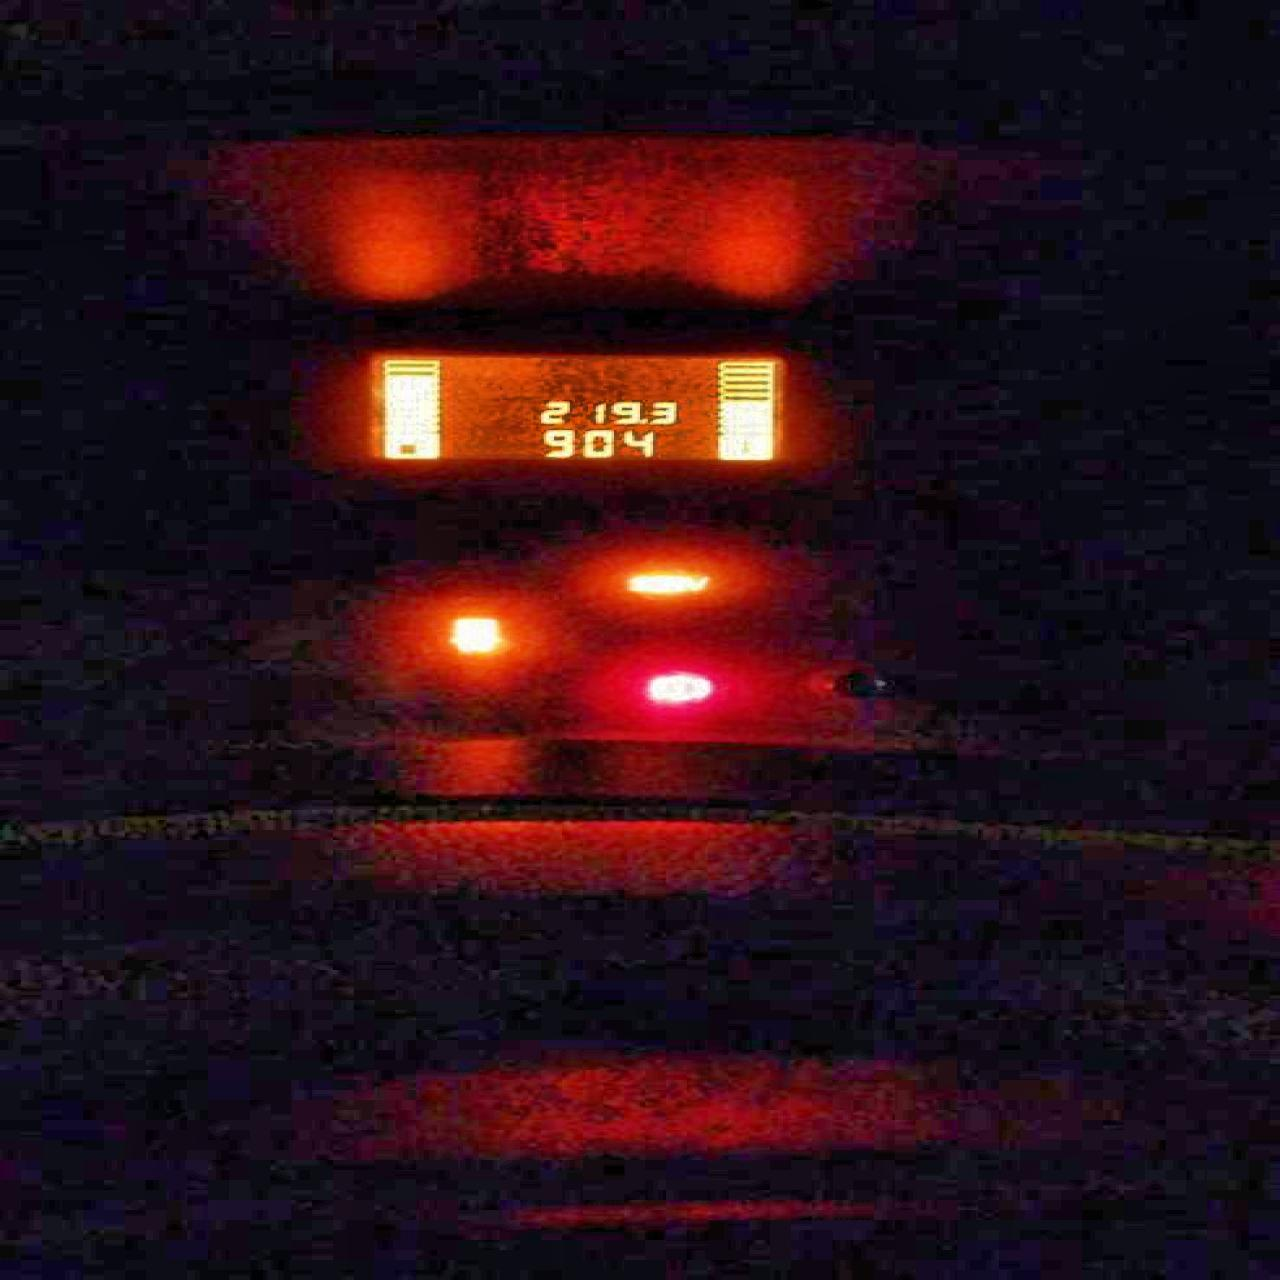-: (635, 417, 648, 423)
0: (578, 429, 614, 459)
1: (591, 402, 606, 422)
2: (536, 400, 570, 422)
3: (648, 400, 676, 424)
4: (619, 429, 653, 457)
9: (538, 428, 572, 458), (610, 400, 640, 424)
odometer: (354, 350, 788, 461)
